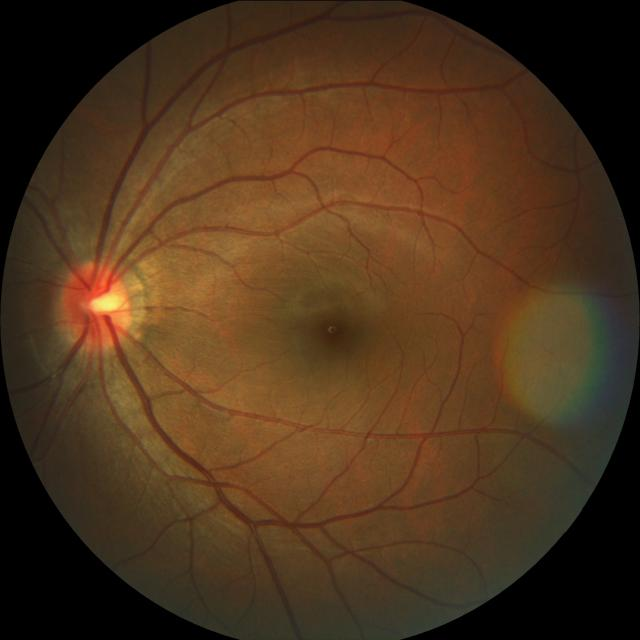OC: (80, 288, 121, 318)
OD: (58, 260, 132, 352)
